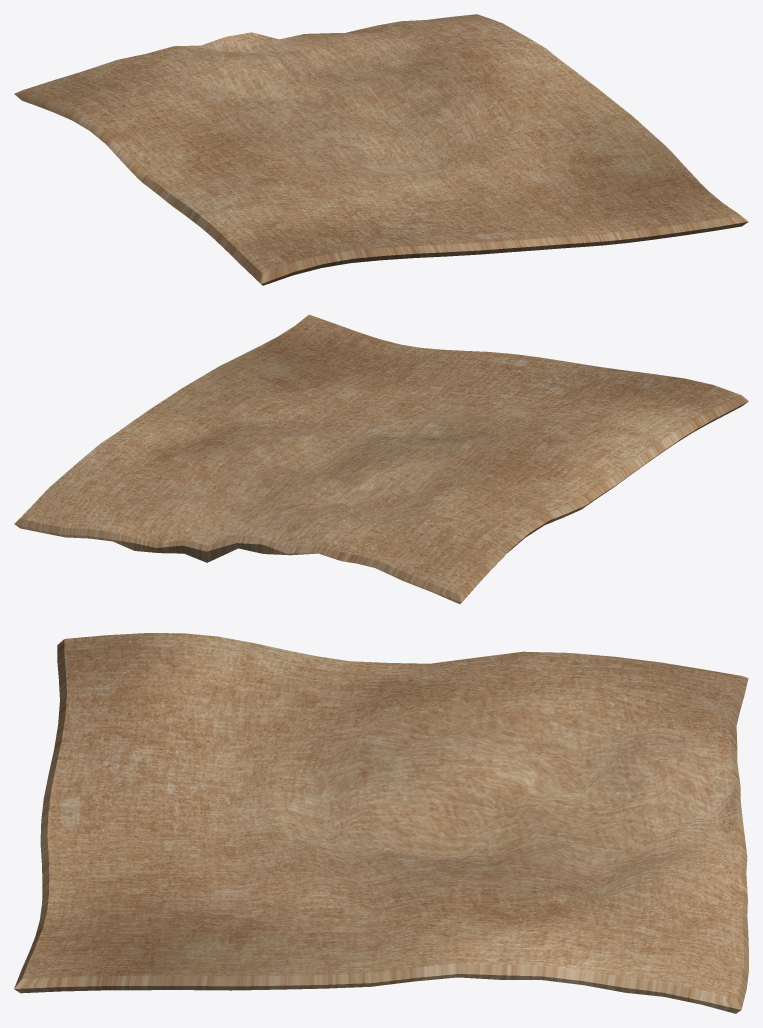
The model's file is Handkerchief.fbx.
3 views of the same model, one above another, from view 1: azimuth 30°, elevation 25°; view 2: azimuth 150°, elevation 25°; view 3: azimuth 270°, elevation 25° (orthographic). The views are drawn at different scales.
Visible parts, largest first — view 1: Handkerchief; view 2: Handkerchief; view 3: Handkerchief.
Part boxes in pixels (x1=…): Handkerchief: x1=14, y1=14, x2=748, y2=285; Handkerchief: x1=14, y1=314, x2=748, y2=604; Handkerchief: x1=14, y1=633, x2=748, y2=1013.
Bounding box in the file's own units: 28.03 × 3.78 × 28.74.
Materials: 1 (1 with a texture image).
